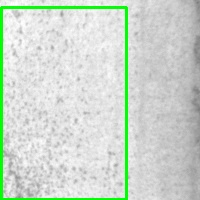pitted_surface: (1, 7, 126, 199)
